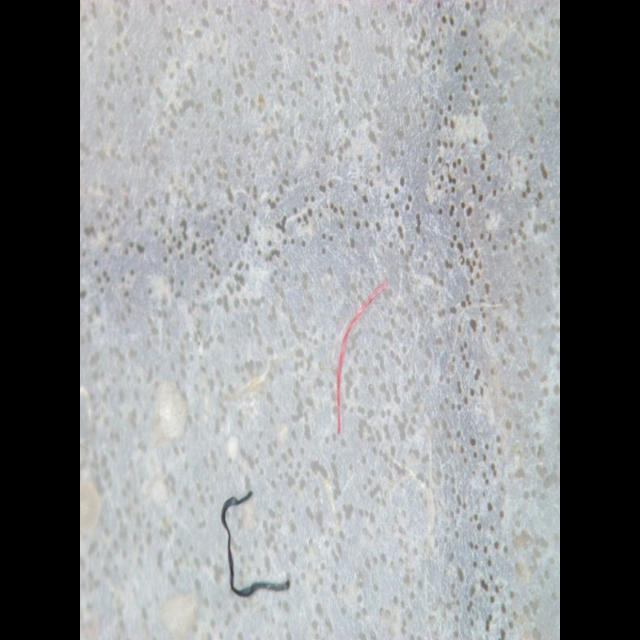Fibre: (217, 487, 296, 605), (331, 277, 389, 437)
